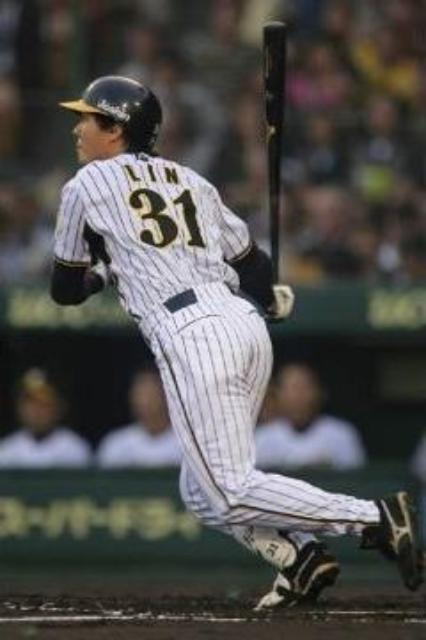bat: (260, 21, 293, 285)
